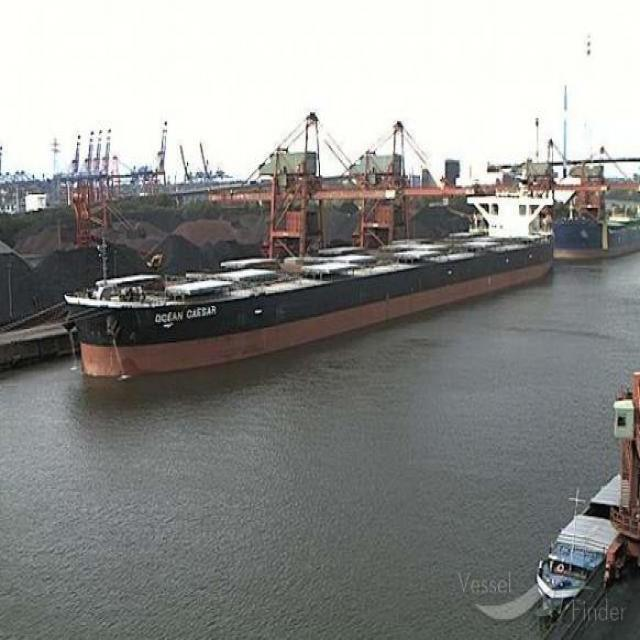OCR: (148, 306, 220, 331)
